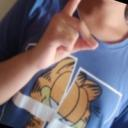hand: (38, 0, 99, 72)
